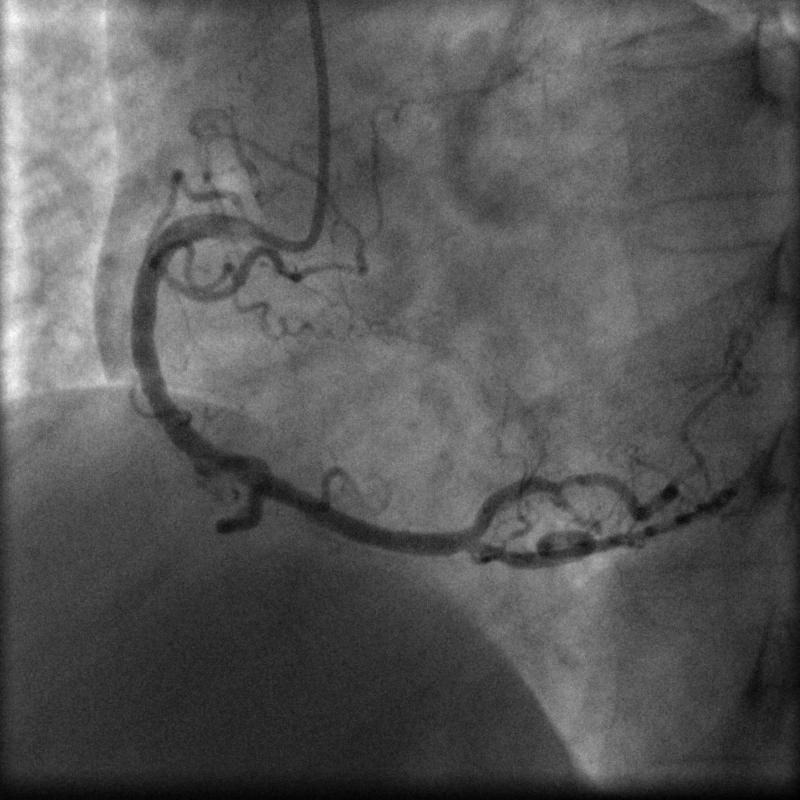Stenosis: (533, 466, 581, 495)
